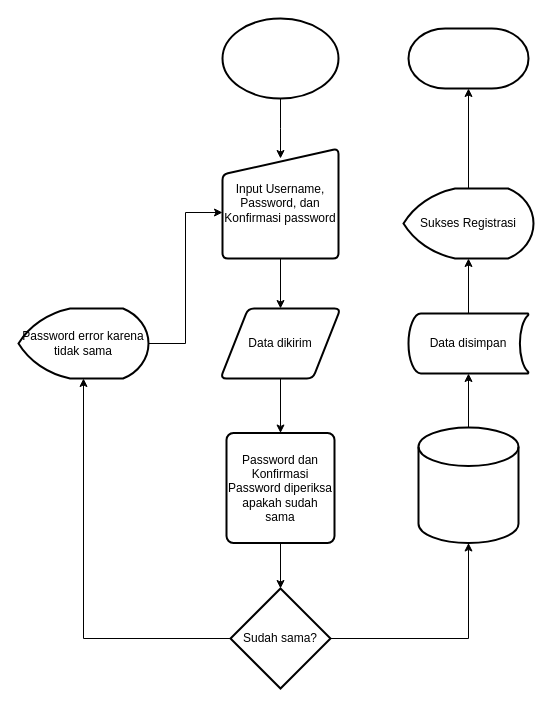
Some shapes in this 551 by 706 pixel diagram are drawn without their labels. Each missing label, with the centre of its shape:
"End" goes at point (468, 58).
"Start" goes at point (280, 58).
"Username dan Password diinput ke database" goes at point (468, 485).
